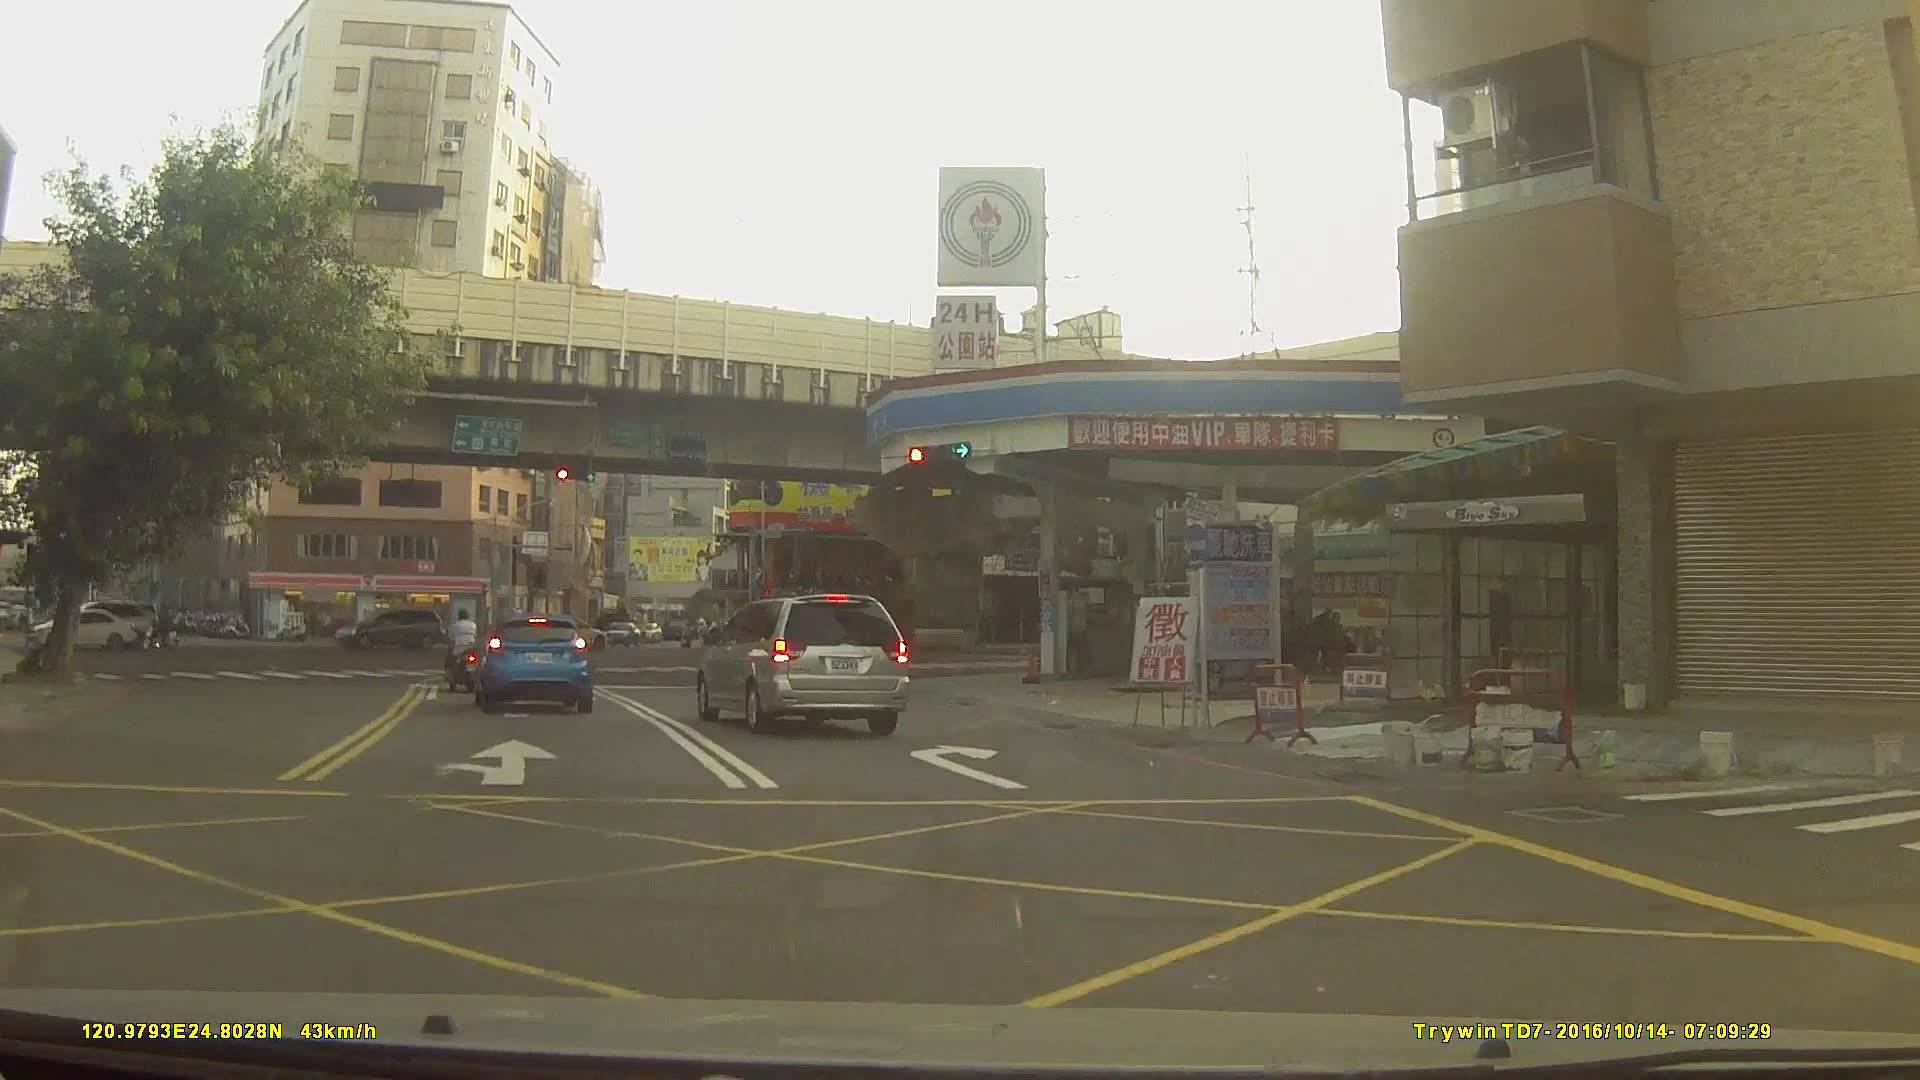rider: (446, 611, 486, 693), (141, 615, 171, 649)
vehicle: (696, 591, 910, 737), (472, 611, 593, 715), (333, 609, 444, 655), (30, 609, 135, 655), (526, 604, 606, 645)
